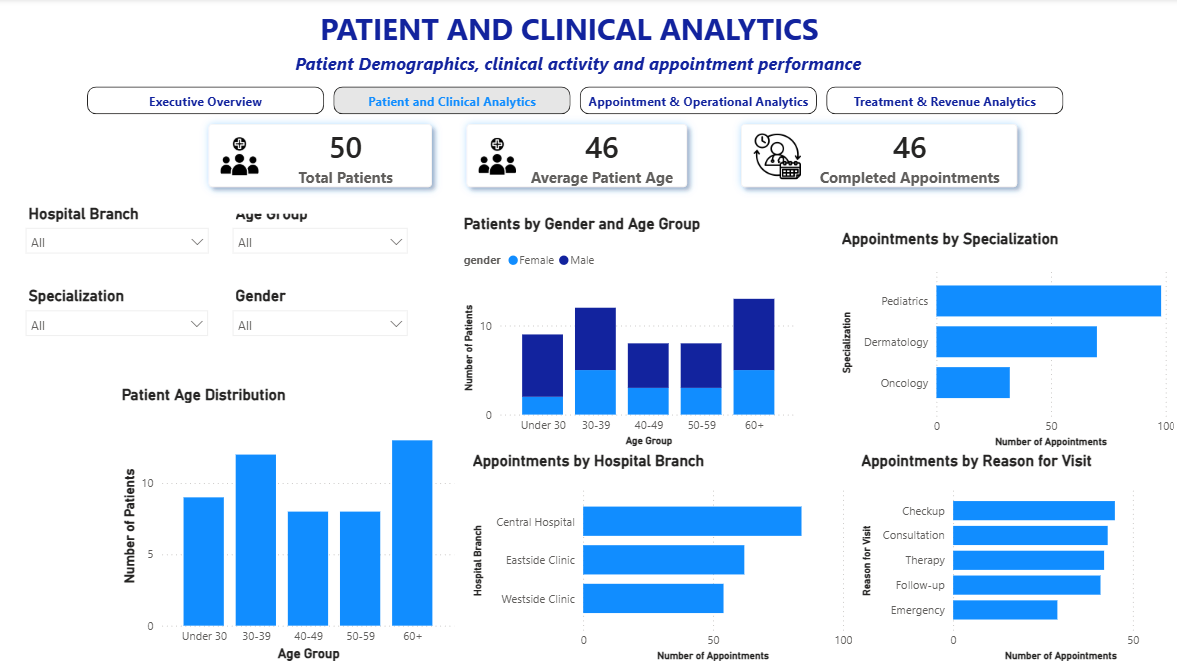

The dashboard page shown, as its layout file describes it:
{"tool":"powerbi","page":{"name":"Patient and Clinical Analytics","canvas":[1280,720],"ordinal":1},"visuals":[{"type":"textbox","box":[61.3,0,1199.4,95.4],"z":0},{"type":"cardVisual","fields":{"Data":["Executive Dashboard.Completed Appointments"]},"box":[776.9,107.3,356.1,126.1],"z":1000},{"type":"cardVisual","fields":{"Data":["Patients.Average Patient Age"]},"box":[480.4,107.3,296.4,126.1],"z":2000},{"type":"clusteredColumnChart","title":"Patient Age Distribution","fields":{"Category":["Patients.Age_Group"],"Y":["CountNonNull(Patients.patient_id)"]},"box":[133,417.8,369.2,302.8],"z":3000},{"type":"columnChart","title":"Patients by Gender and Age Group","fields":{"Category":["Patients.Age_Group"],"Series":["Patients.gender"],"Y":["CountNonNull(Patients.patient_id)"]},"box":[502.4,233.1,369.5,255.5],"z":4000},{"type":"barChart","title":"Appointments by Specialization","fields":{"Category":["Executive Dashboard.specialization"],"Y":["CountNonNull(Executive Dashboard.appointment_id)"]},"box":[909.9,248.6,369.5,240],"z":5000},{"type":"barChart","title":"Appointments by Hospital Branch","fields":{"Category":["Executive Dashboard.hospital_branch"],"Y":["CountNonNull(Executive Dashboard.appointment_id)"]},"box":[511.1,488.6,419.6,231.4],"z":6000},{"type":"barChart","title":"Appointments by Reason for Visit","fields":{"Category":["Executive Dashboard.reason_for_visit"],"Y":["CountNonNull(Executive Dashboard.appointment_id)"]},"box":[930.7,488.6,348.8,231.4],"z":7000},{"type":"slicer","fields":{"Values":["Patients.gender"]},"box":[247.7,306,208.9,63.1],"z":8000},{"type":"slicer","fields":{"Values":["Patients.Age_Group"]},"box":[247.7,217,208.9,74.5],"z":9000},{"type":"slicer","fields":{"Values":["Executive Dashboard.specialization"]},"box":[24.3,306,217,63.1],"z":10000},{"type":"slicer","fields":{"Values":["Executive Dashboard.hospital_branch"]},"box":[24.3,217,217.6,89.8],"z":11000},{"type":"cardVisual","fields":{"Data":["Executive Dashboard.Total Patients"]},"box":[202.7,107.3,299.8,126.1],"z":12000},{"type":"pageNavigator","box":[100.4,95.5,1056.3,30.7],"z":12001}]}

Visuals, with their boxes in screenshot pixels (x1, y1, x2, y2), scaled from the page's 1280x720 canvas onto the 1177x664 screenshot:
textbox: {"x1": 56, "y1": 0, "x2": 1159, "y2": 88}
cardVisual - Executive Dashboard.Completed Appointments: {"x1": 714, "y1": 99, "x2": 1042, "y2": 215}
cardVisual - Patients.Average Patient Age: {"x1": 442, "y1": 99, "x2": 714, "y2": 215}
"Patient Age Distribution" clusteredColumnChart: {"x1": 122, "y1": 385, "x2": 462, "y2": 663}
"Patients by Gender and Age Group" columnChart: {"x1": 462, "y1": 215, "x2": 802, "y2": 451}
"Appointments by Specialization" barChart: {"x1": 837, "y1": 229, "x2": 1176, "y2": 451}
"Appointments by Hospital Branch" barChart: {"x1": 470, "y1": 451, "x2": 856, "y2": 663}
"Appointments by Reason for Visit" barChart: {"x1": 856, "y1": 451, "x2": 1176, "y2": 663}
slicer - Patients.gender: {"x1": 228, "y1": 282, "x2": 420, "y2": 340}
slicer - Patients.Age_Group: {"x1": 228, "y1": 200, "x2": 420, "y2": 269}
slicer - Executive Dashboard.specialization: {"x1": 22, "y1": 282, "x2": 222, "y2": 340}
slicer - Executive Dashboard.hospital_branch: {"x1": 22, "y1": 200, "x2": 222, "y2": 283}
cardVisual - Executive Dashboard.Total Patients: {"x1": 186, "y1": 99, "x2": 462, "y2": 215}
pageNavigator: {"x1": 92, "y1": 88, "x2": 1064, "y2": 116}
